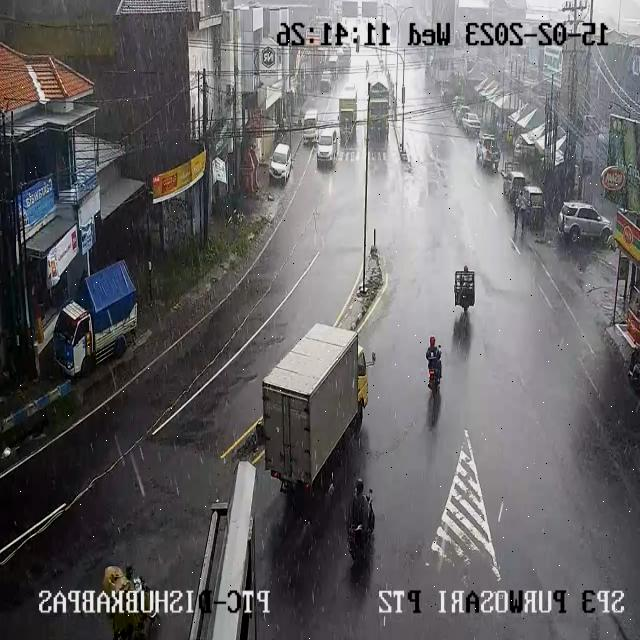Car: (559, 203, 613, 245), (514, 185, 546, 228), (270, 143, 292, 184), (316, 128, 338, 168), (476, 134, 501, 169), (503, 170, 527, 204), (515, 134, 537, 164), (302, 109, 319, 143), (461, 112, 482, 134), (336, 47, 351, 75), (440, 82, 457, 105), (455, 104, 471, 126), (319, 68, 333, 93), (452, 96, 464, 119), (328, 54, 339, 78), (341, 42, 351, 53)
Motorbike: (102, 557, 150, 635), (342, 479, 378, 554), (452, 264, 478, 312), (425, 332, 443, 396)
Truck: (250, 326, 372, 477), (54, 260, 138, 378), (366, 74, 391, 152), (338, 86, 358, 144)
